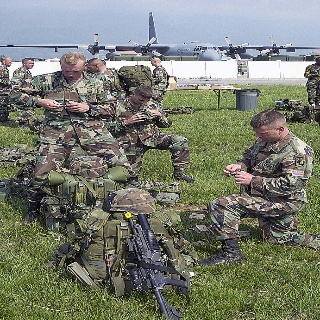rifle: (119, 212, 192, 320)
